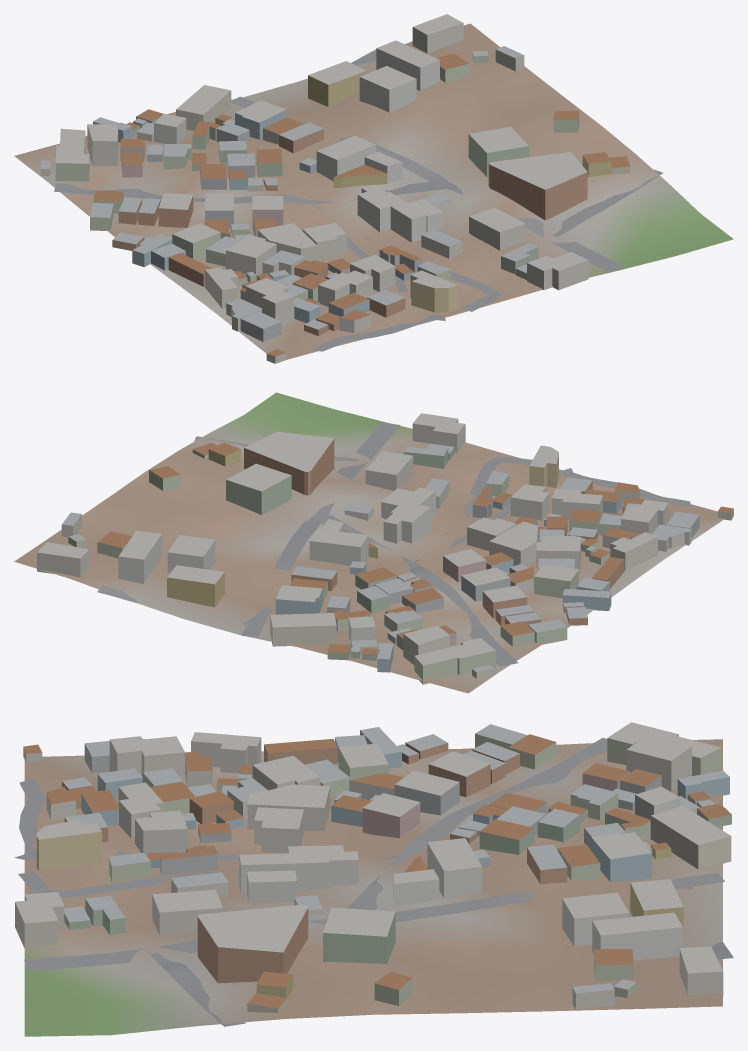
3 renders of one model, top to bottom at view 1: azimuth 30°, elevation 25°; view 2: azimuth 150°, elevation 25°; view 3: azimuth 270°, elevation 25°, orthographic. The views are drawn at different scales.
Visible parts, largest first — view 1: Lo; view 2: Lo; view 3: Lo.
Boxes of the visible parts, <box> form: Lo: <box>14,14,733,363</box>; Lo: <box>14,392,733,693</box>; Lo: <box>14,722,733,1036</box>.
Size of the model in its own units: 265 by 27.43 by 264.
